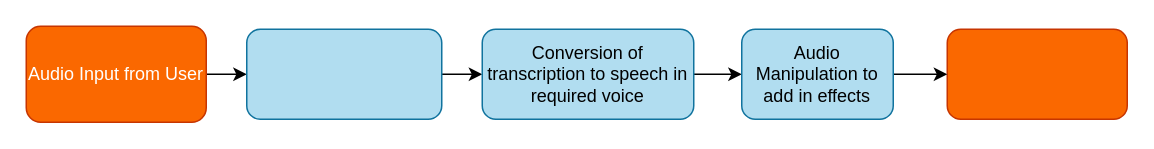
This 1154x149 diagram has some shape labels left out. The box of each missing label's shape, as (x1, y1, x2, y2) in pixels:
Automatic Speech Recognition to transcribe as Text: (245, 28, 442, 119)
Voila ! Voice transformed: (946, 28, 1127, 119)
